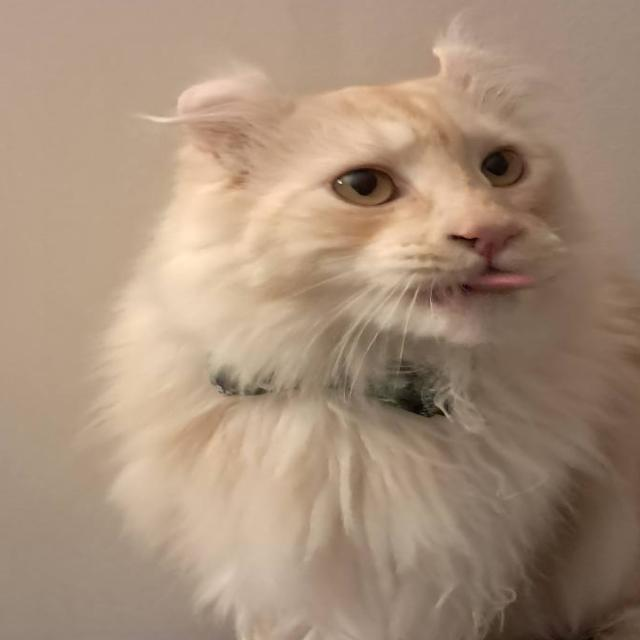American Curl: (87, 35, 640, 640)
